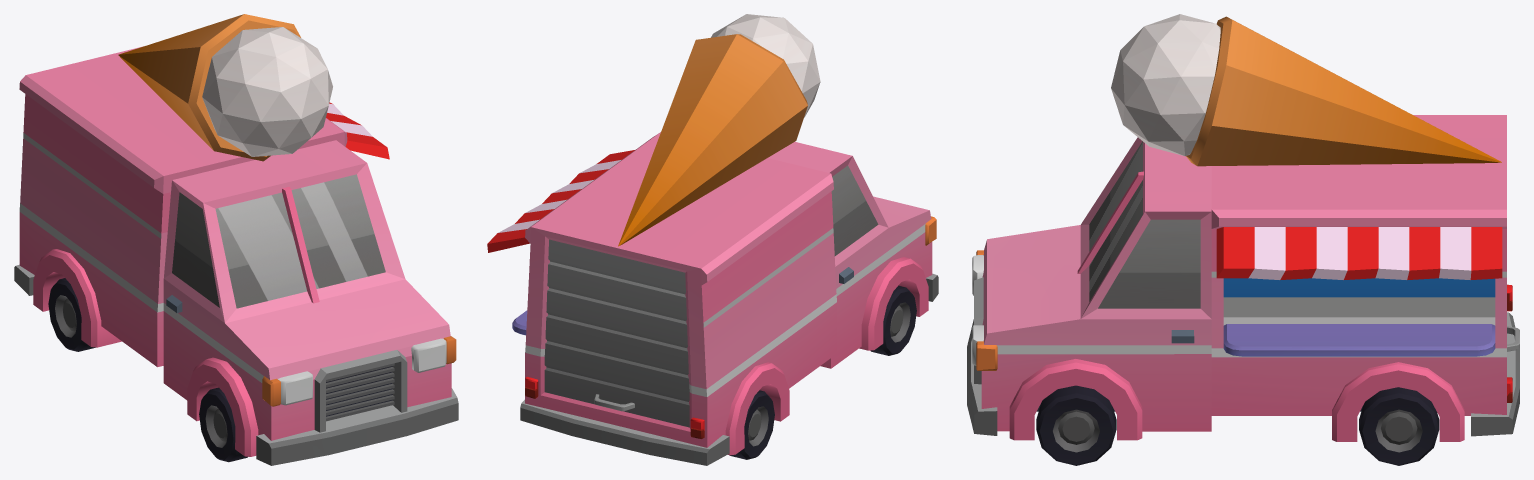
Rendered from IceCreamTruck_1.glb.
The picture shows the model from 3 angles, left to right: view 1: azimuth 30°, elevation 25°; view 2: azimuth 150°, elevation 25°; view 3: azimuth 270°, elevation 25°; orthographic projection. The views are drawn at different scales.
Visible parts, largest first — view 1: IceCreamTruck_1, W_FR, W_BR; view 2: IceCreamTruck_1, W_FR, W_BR; view 3: IceCreamTruck_1, W_FL, W_BL.
Part boxes in pixels (x1,y1,x2,y2): IceCreamTruck_1: [14, 14, 458, 465]; W_FR: [199, 387, 247, 462]; W_BR: [48, 278, 95, 351]; IceCreamTruck_1: [487, 14, 938, 465]; W_FR: [870, 285, 916, 355]; W_BR: [729, 390, 774, 459]; IceCreamTruck_1: [967, 14, 1519, 441]; W_FL: [1036, 385, 1116, 465]; W_BL: [1359, 387, 1439, 465].
Size of the model in its own units: 1.34 by 1.9 by 2.41.
Materials: 4 (4 with a texture image).
